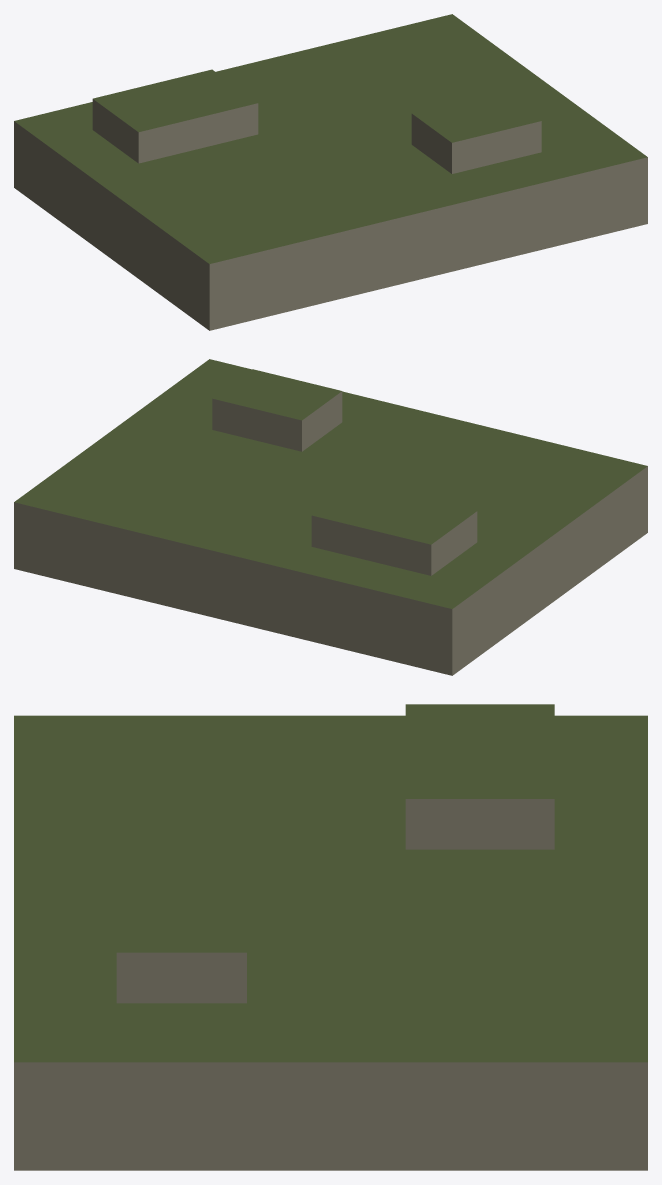
The model's file is ruin-acropolis.tone-v1.lod2.glb.
The picture shows the model from 3 angles, top to bottom: view 1: azimuth 30°, elevation 25°; view 2: azimuth 150°, elevation 25°; view 3: azimuth 270°, elevation 25°; orthographic projection. The views are drawn at different scales.
Visible parts, largest first — view 1: ruin-acropolis; view 2: ruin-acropolis; view 3: ruin-acropolis.
Part boxes in pixels (x1,y1,x2,y2): ruin-acropolis: [14, 14, 647, 330]; ruin-acropolis: [14, 359, 647, 675]; ruin-acropolis: [14, 704, 647, 1170].
Size of the model in its own units: 44 by 9.4 by 34.
